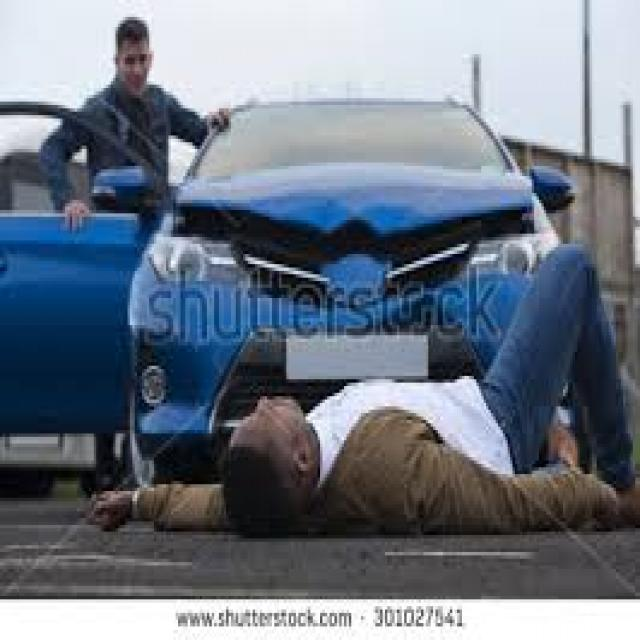minor: (121, 166, 518, 328)
